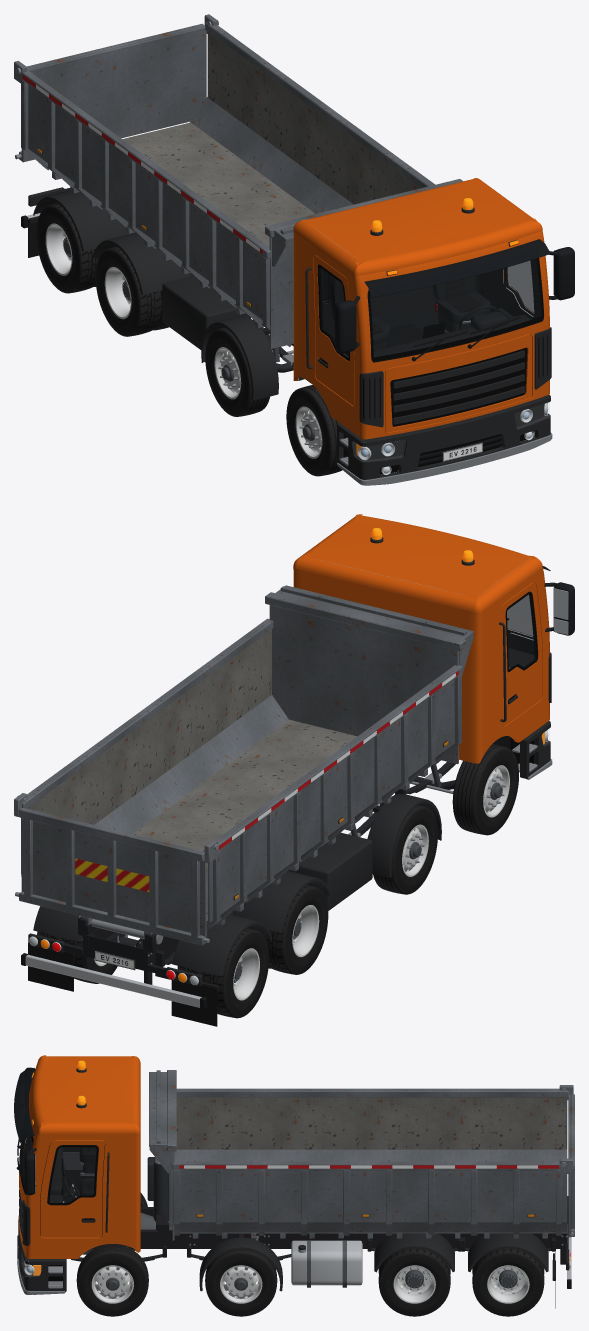
Rendered from tipper-truck.glb.
3 renders of one model, top to bottom at view 1: azimuth 30°, elevation 25°; view 2: azimuth 150°, elevation 25°; view 3: azimuth 270°, elevation 25°, orthographic. The views are drawn at different scales.
Visible parts, largest first — view 1: Body, Bed, Tailgate, Wheel_3_Right, Wheel_4_Right, Wheel_1_Right, Wheel_2_Right; view 2: Bed, Body, Tailgate, Wheel_1_Right, Wheel_3_Right, Wheel_4_Right, Wheel_2_Right, Wheel_4_Left; view 3: Bed, Body, Wheel_1_Left, Wheel_4_Left, Wheel_3_Left, Wheel_2_Left, Tailgate.
Boxes of the visible parts, left/top/right/bottom form: Body: left=21, top=178, right=574, bottom=485; Bed: left=17, top=22, right=462, bottom=348; Tailgate: left=14, top=14, right=218, bottom=162; Wheel_3_Right: left=95, top=246, right=168, bottom=336; Wheel_4_Right: left=36, top=203, right=99, bottom=293; Wheel_1_Right: left=286, top=385, right=342, bottom=476; Wheel_2_Right: left=205, top=327, right=270, bottom=416; Bed: left=21, top=585, right=473, bottom=944; Body: left=21, top=514, right=574, bottom=1026; Tailgate: left=14, top=793, right=218, bottom=945; Wheel_1_Right: left=452, top=743, right=518, bottom=835; Wheel_3_Right: left=265, top=884, right=328, bottom=974; Wheel_4_Right: left=177, top=928, right=268, bottom=1018; Wheel_2_Right: left=373, top=805, right=437, bottom=894; Wheel_4_Left: left=37, top=931, right=127, bottom=983; Bed: left=149, top=1070, right=568, bottom=1240; Body: left=14, top=1055, right=571, bottom=1308; Wheel_1_Left: left=76, top=1246, right=148, bottom=1316; Wheel_4_Left: left=472, top=1248, right=544, bottom=1316; Wheel_3_Left: left=378, top=1248, right=450, bottom=1316; Wheel_2_Left: left=205, top=1249, right=277, bottom=1316; Tailgate: left=559, top=1085, right=574, bottom=1237.
Size of the model in its own units: 3.12 by 3.21 by 8.08.
Materials: 67 (16 with a texture image).
